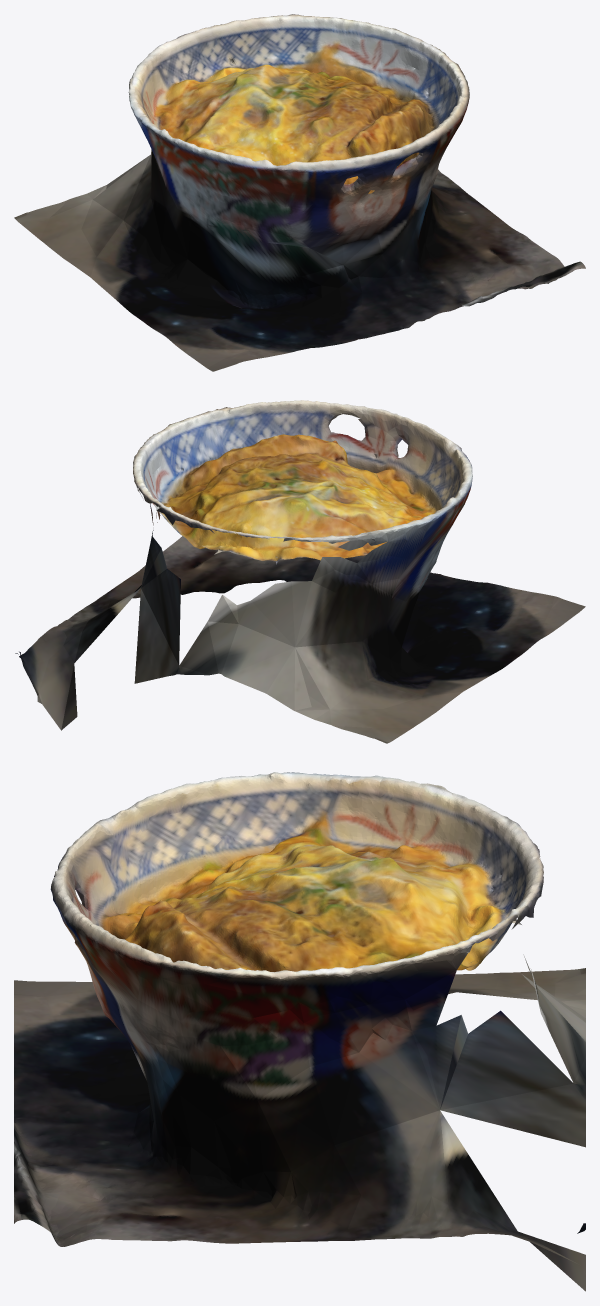
Rendered from oyakodon.glb.
3 renders of one model, top to bottom at view 1: azimuth 30°, elevation 25°; view 2: azimuth 150°, elevation 25°; view 3: azimuth 270°, elevation 25°, orthographic. The views are drawn at different scales.
Visible parts, largest first — view 1: mesh; view 2: mesh; view 3: mesh.
Part boxes in pixels (x1,y1,x2,y2): mesh: (14, 14, 585, 371); mesh: (15, 400, 585, 743); mesh: (14, 772, 585, 1291).
Bounding box in the file's own units: 0.1925 × 0.1115 × 0.1778.
1 material, 1 textured.
